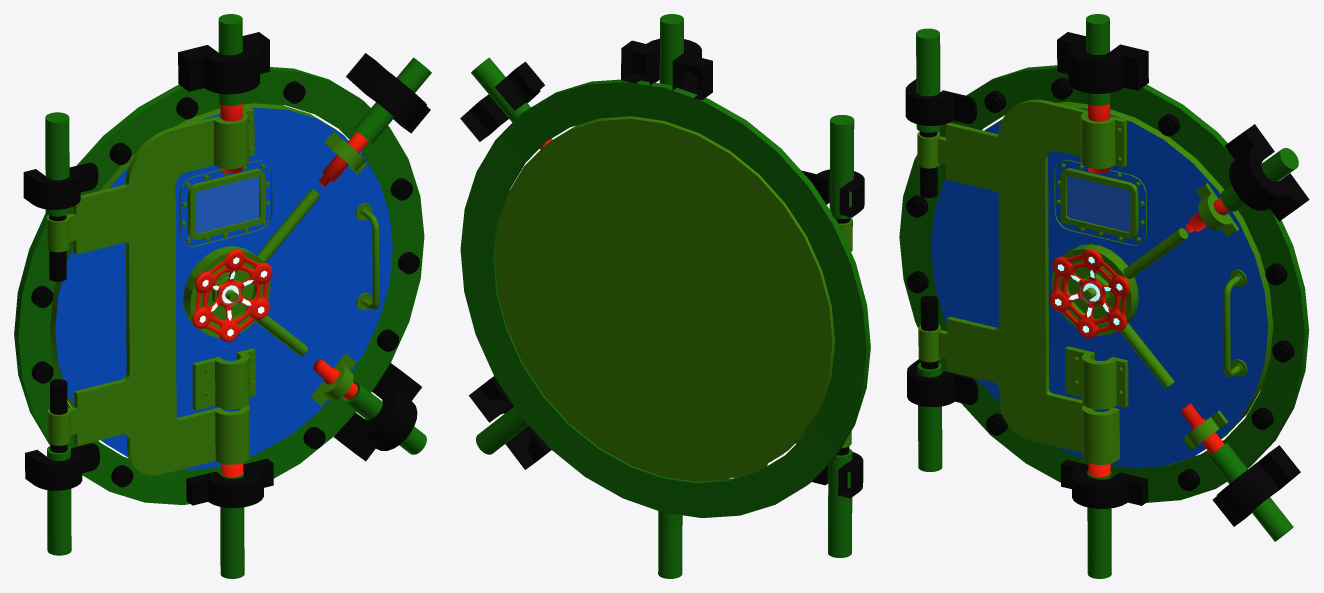
The model's file is Door3BakedReadyOptomized.glb.
3 renders of one model, left to right at view 1: azimuth 30°, elevation 25°; view 2: azimuth 150°, elevation 25°; view 3: azimuth 330°, elevation 25°, orthographic.
Parts seen in each view (by area): view 1: Plane.015, Cube.014, Valve, Cylinder.008, Cylinder.006; view 2: Plane.015, Cube.014; view 3: Plane.015, Cube.014, Valve, Cylinder.006.
Boxes of the visible parts, x1=… form: Plane.015: x1=46, y1=103, x2=392, y2=475; Cube.014: x1=14, y1=14, x2=431, y2=578; Valve: x1=192, y1=250, x2=272, y2=341; Cylinder.008: x1=318, y1=131, x2=368, y2=187; Cylinder.006: x1=313, y1=359, x2=357, y2=399; Plane.015: x1=494, y1=116, x2=852, y2=481; Cube.014: x1=460, y1=14, x2=870, y2=578; Plane.015: x1=917, y1=99, x2=1273, y2=468; Cube.014: x1=899, y1=14, x2=1309, y2=578; Valve: x1=1049, y1=249, x2=1129, y2=338; Cylinder.006: x1=1180, y1=403, x2=1224, y2=454.
Bounding box in the file's own units: 3.49 × 4.56 × 0.4147.
